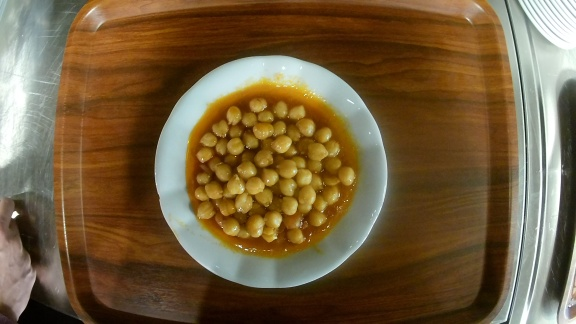sulunohut: (153, 53, 389, 290)
